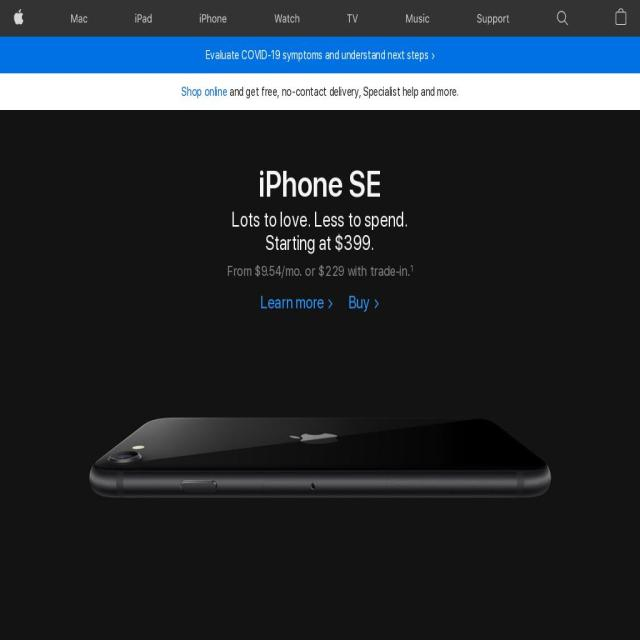button: (205, 47, 435, 63), (470, 0, 516, 37), (193, 0, 234, 37), (268, 0, 306, 37), (400, 0, 436, 37), (129, 0, 159, 37), (65, 0, 94, 37), (341, 0, 365, 37), (608, 0, 632, 37), (8, 0, 30, 37)
heading: (0, 164, 640, 204), (210, 208, 430, 255)
image: (550, 0, 574, 37)
link: (260, 291, 334, 312), (348, 291, 379, 312), (182, 85, 228, 98), (410, 262, 414, 274)
text: (71, 206, 569, 640), (227, 85, 459, 98), (344, 262, 410, 279), (255, 260, 302, 282), (318, 260, 344, 282), (227, 262, 255, 279), (302, 262, 318, 279)
